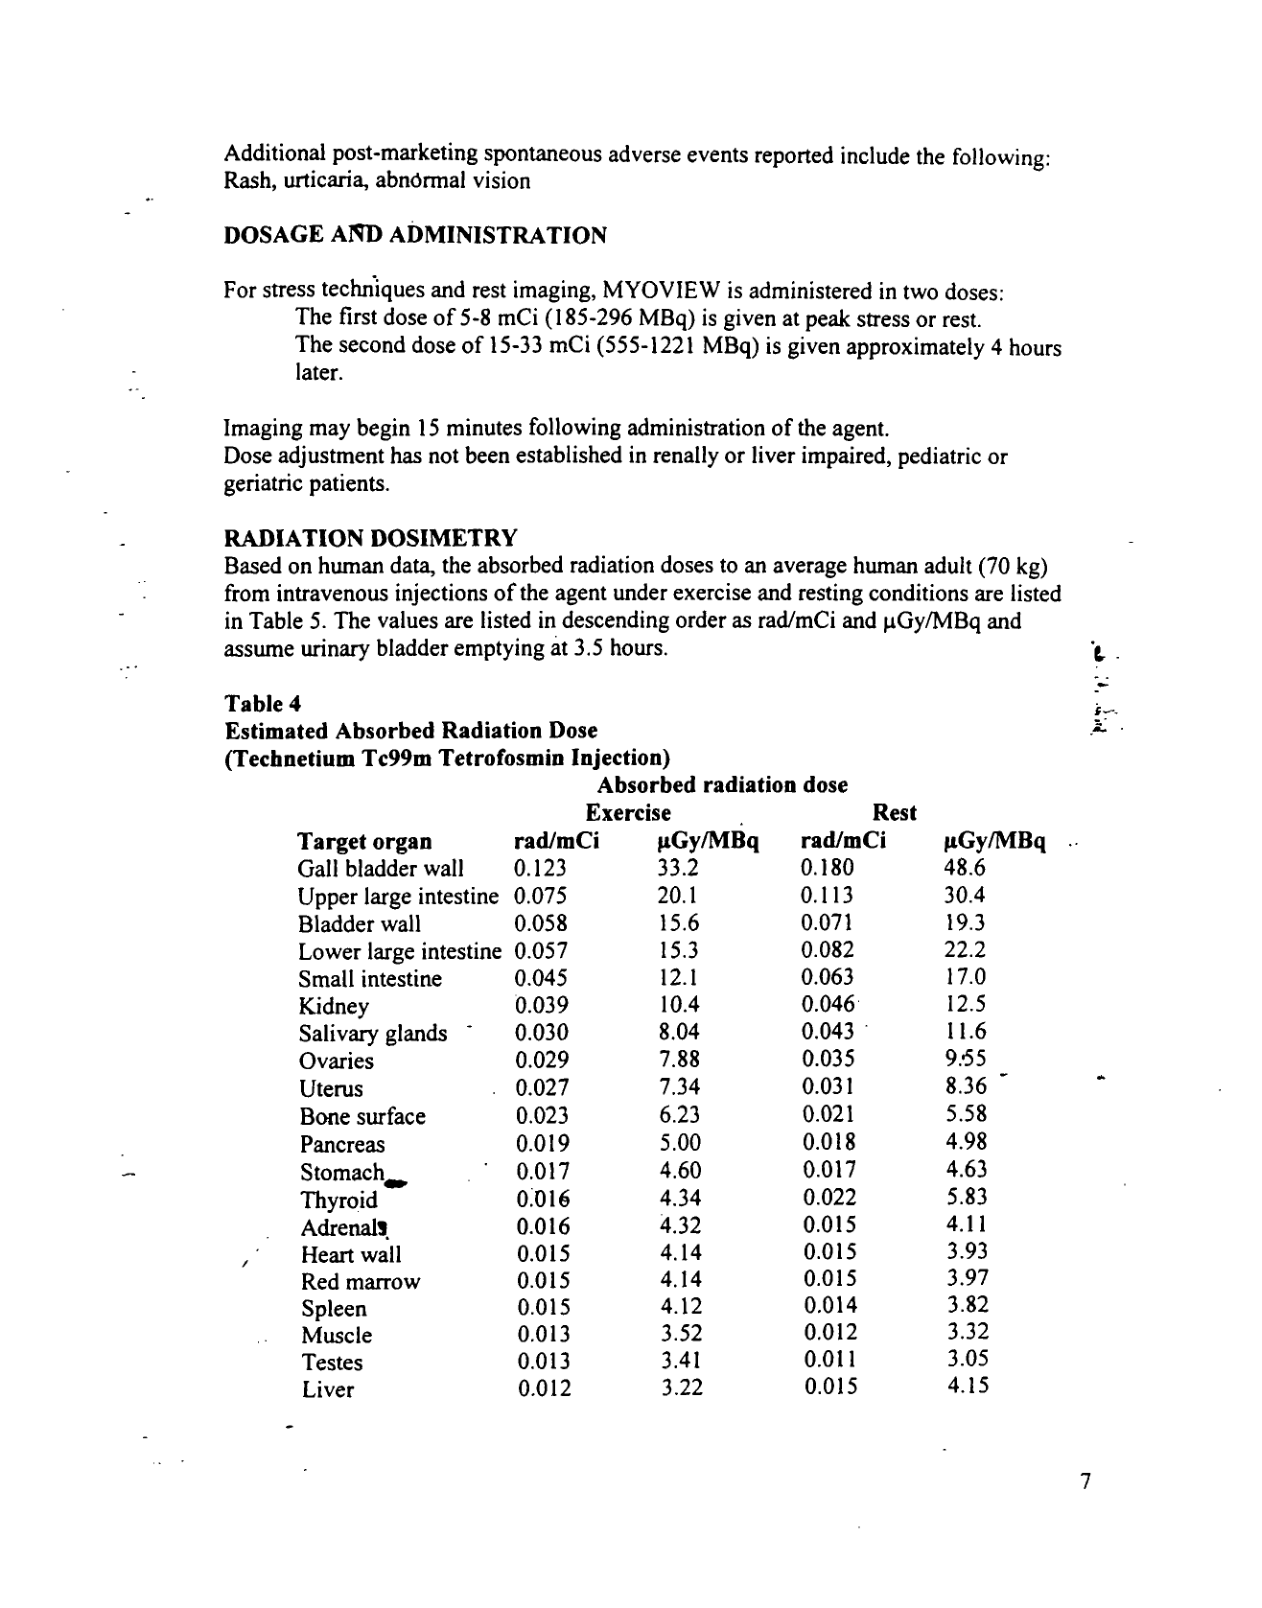nolines: (292, 827, 1045, 1399)
